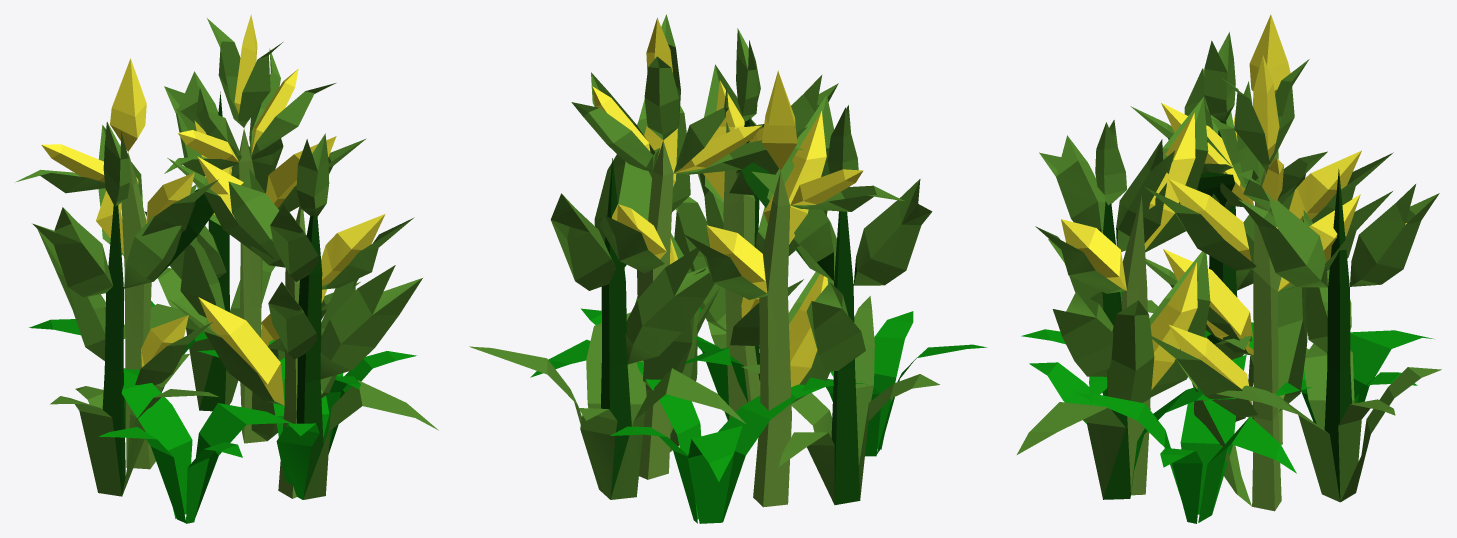
File: corn.glb
3 renders of one model, left to right at view 1: azimuth 30°, elevation 25°; view 2: azimuth 150°, elevation 25°; view 3: azimuth 270°, elevation 25°, orthographic. The views are drawn at different scales.
Visible parts, largest first — view 1: corn_2, corn_3, corn_1; view 2: corn_3, corn_2, corn_1; view 3: corn_3, corn_2, corn_1.
Boxes of the visible parts, <box> form: corn_2: <box>32,71,438,499</box>; corn_3: <box>15,14,414,498</box>; corn_1: <box>29,301,416,523</box>; corn_3: <box>571,14,904,507</box>; corn_2: <box>469,28,939,504</box>; corn_1: <box>530,307,987,523</box>; corn_3: <box>1035,14,1393,511</box>; corn_2: <box>1017,32,1441,502</box>; corn_1: <box>1021,291,1434,523</box>.
Bounding box in the file's own units: 2.95 × 3.37 × 2.91.
